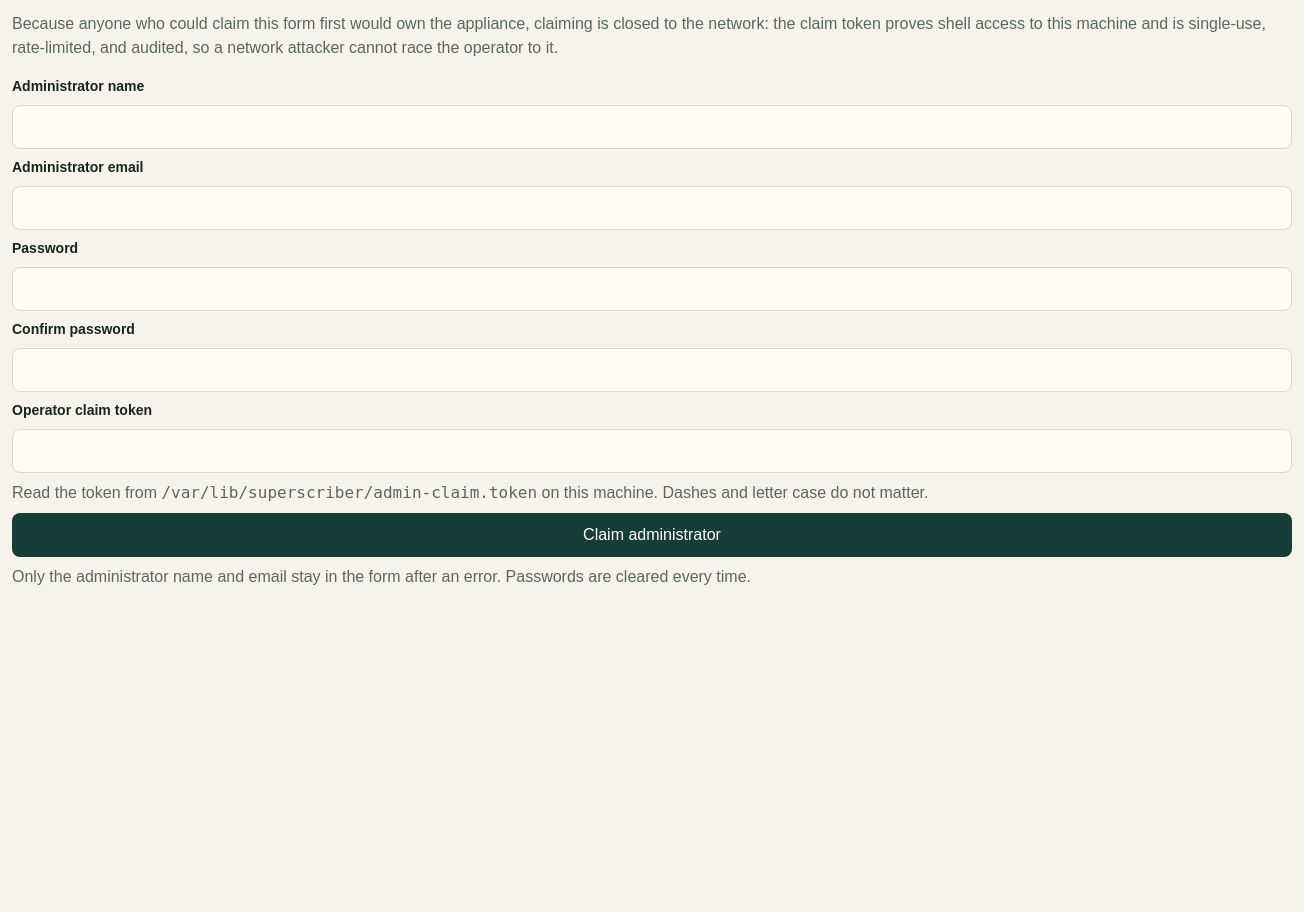
Test: RecoveryClaimForm › blocks a blank password confirmation through the field and error summary
This screenshot has width=1304, height=912.
Step 1. Type "correct horse battery staple" into the password field labelled "Password" → coordinates (652, 289), box [12,267,1292,311]
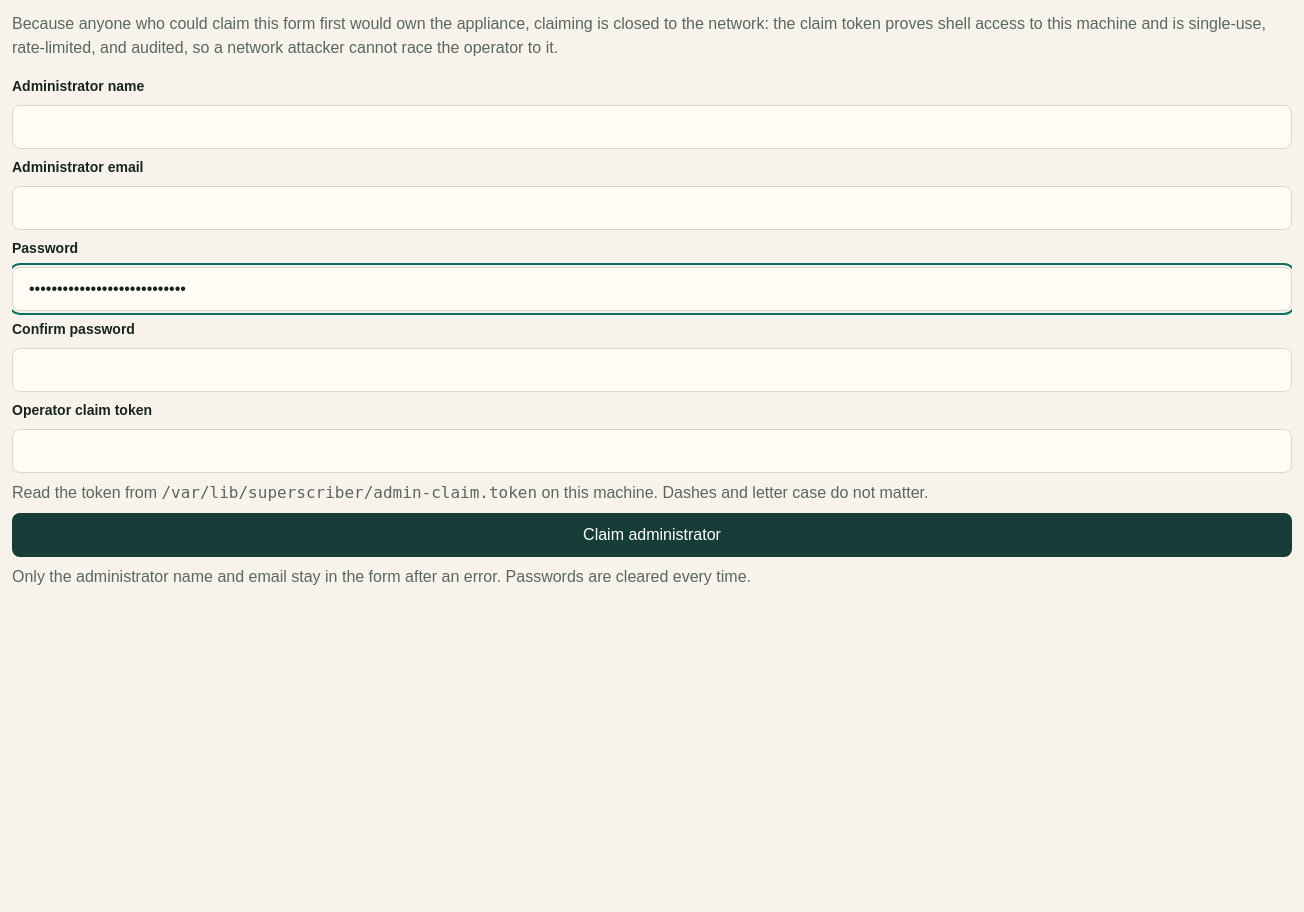
Step 2. Click the button "Claim administrator" → coordinates (652, 535), box [12,513,1292,557]
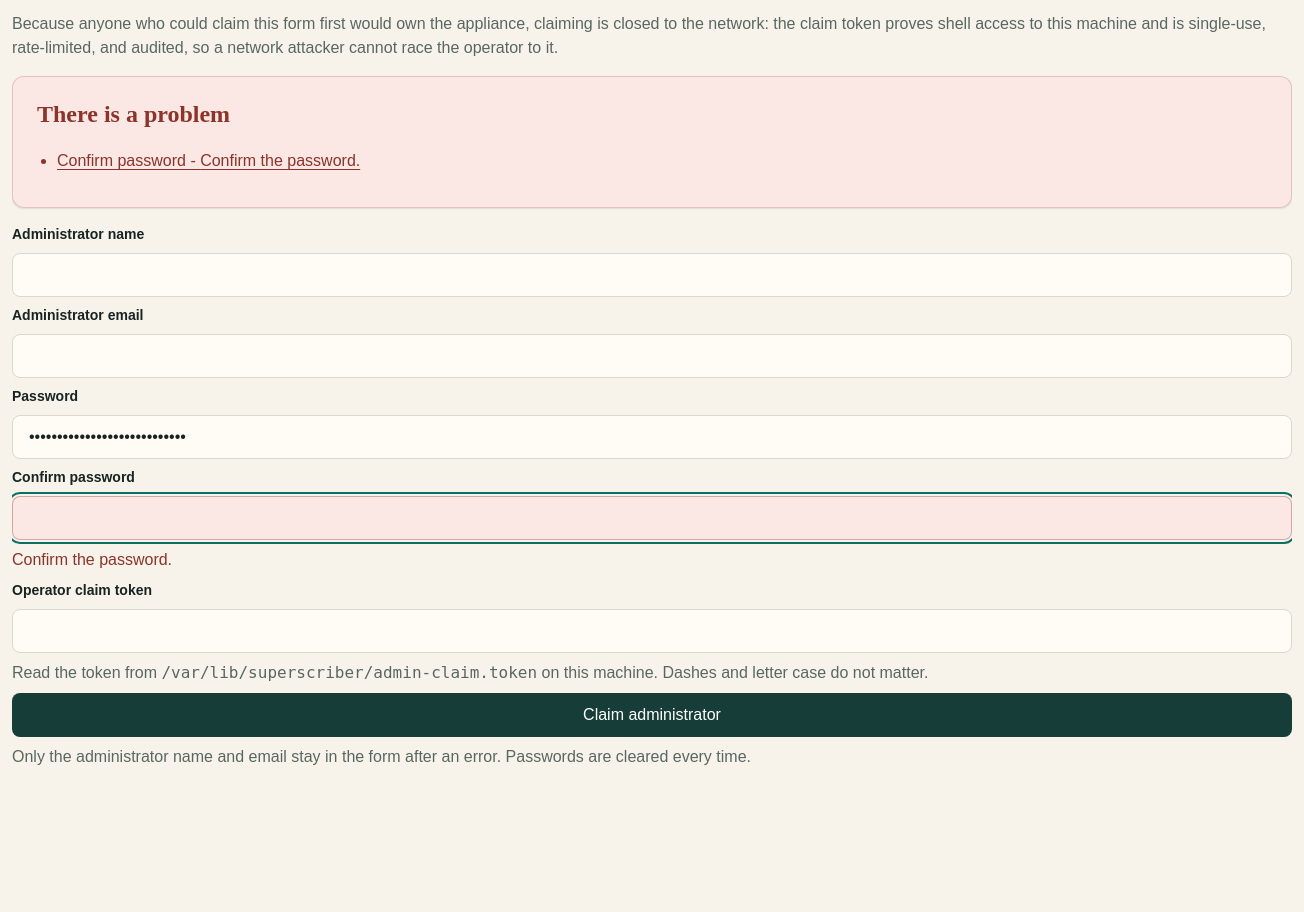
Result: the text "Confirm the password." is shown at [12,551,172,568]
Result: the link "Confirm password - Confirm the password." is shown at [57,152,360,169]
